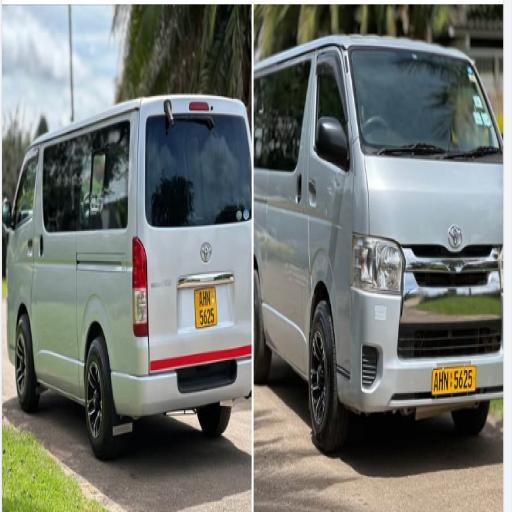number-plates: (433, 364, 478, 395), (195, 283, 216, 327)
